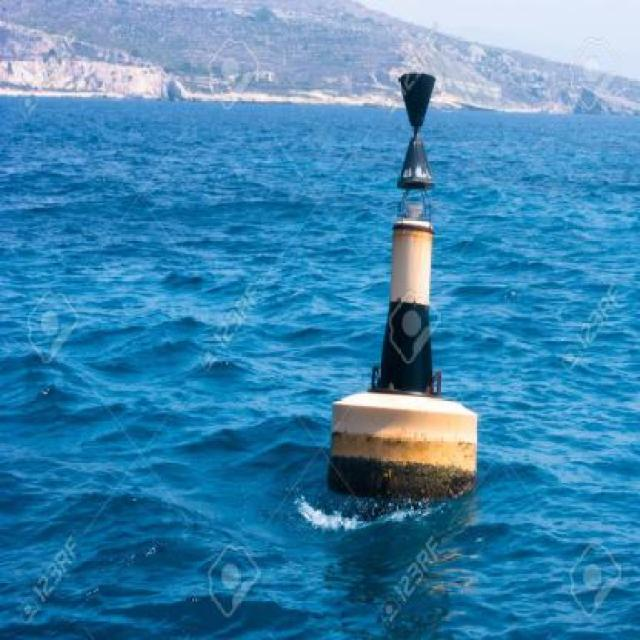a: (311, 59, 494, 514)
